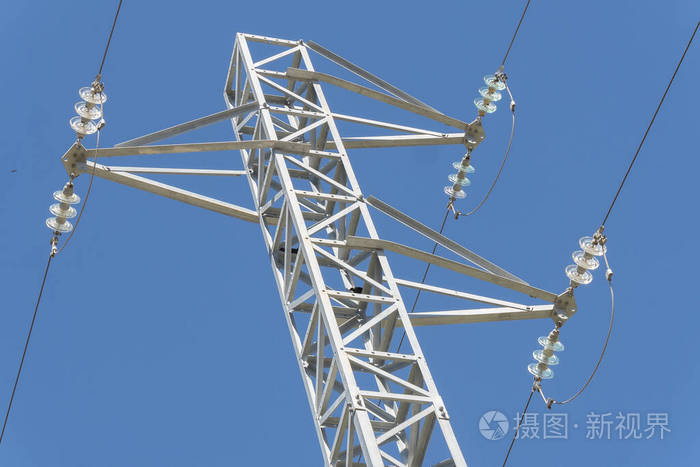insulator: (560, 236, 608, 286), (65, 87, 108, 136), (526, 336, 564, 379), (45, 191, 82, 235), (473, 75, 505, 114), (443, 162, 475, 200)
